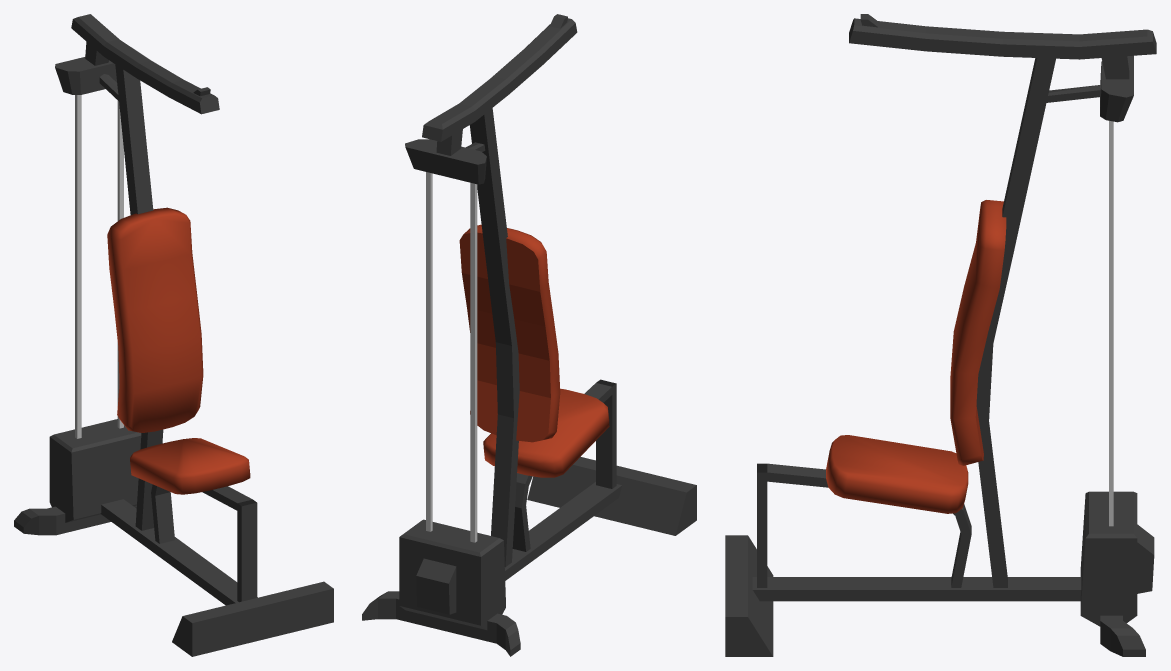
The model's file is E_Machine_5.fbx.
The picture shows the model from 3 angles, left to right: view 1: azimuth 30°, elevation 25°; view 2: azimuth 150°, elevation 25°; view 3: azimuth 270°, elevation 25°; orthographic projection. The views are drawn at different scales.
Parts seen in each view (by area): view 1: E_Machine_5; view 2: E_Machine_5; view 3: E_Machine_5.
Boxes of the visible parts, box(x1,y1,x2,y2) form: E_Machine_5: box(14, 14, 333, 656); E_Machine_5: box(362, 14, 696, 656); E_Machine_5: box(725, 14, 1156, 656).
Bounding box in the file's own units: 62.27 × 213 × 139.
